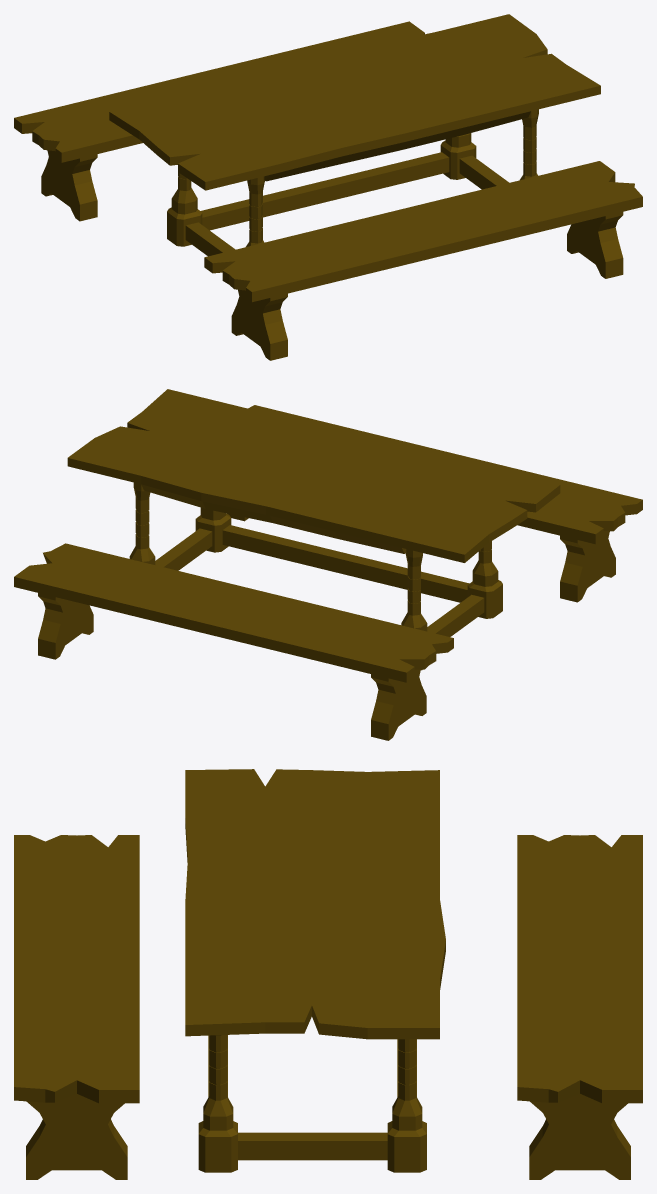
The model's file is Mesa2.fbx.
3 renders of one model, top to bottom at view 1: azimuth 30°, elevation 25°; view 2: azimuth 150°, elevation 25°; view 3: azimuth 270°, elevation 25°, orthographic. The views are drawn at different scales.
Visible parts, largest first — view 1: pCube253, polySurface370, polySurface371; view 2: pCube253, polySurface371, polySurface370; view 3: pCube253, polySurface370, polySurface371.
Part boxes in pixels (box(x1,y1,x2,y2)): pCube253: box(109, 14, 600, 256); polySurface370: box(204, 161, 642, 360); polySurface371: box(14, 21, 424, 221); pCube253: box(67, 389, 560, 670); polySurface371: box(14, 543, 453, 740); polySurface370: box(227, 405, 642, 602); pCube253: box(185, 769, 445, 1172); polySurface370: box(14, 835, 139, 1179); polySurface371: box(517, 835, 642, 1179).
Bounding box in the file's own units: 2.06 × 0.6393 × 2.03.
